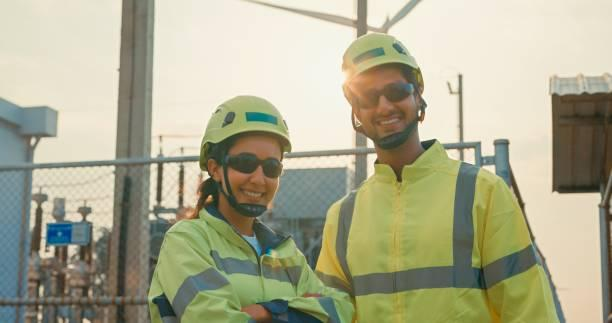goggle: (215, 146, 289, 179), (348, 78, 419, 110)
helmet: (199, 84, 302, 156), (336, 28, 428, 81)
vest: (321, 130, 570, 323), (150, 205, 334, 323)
